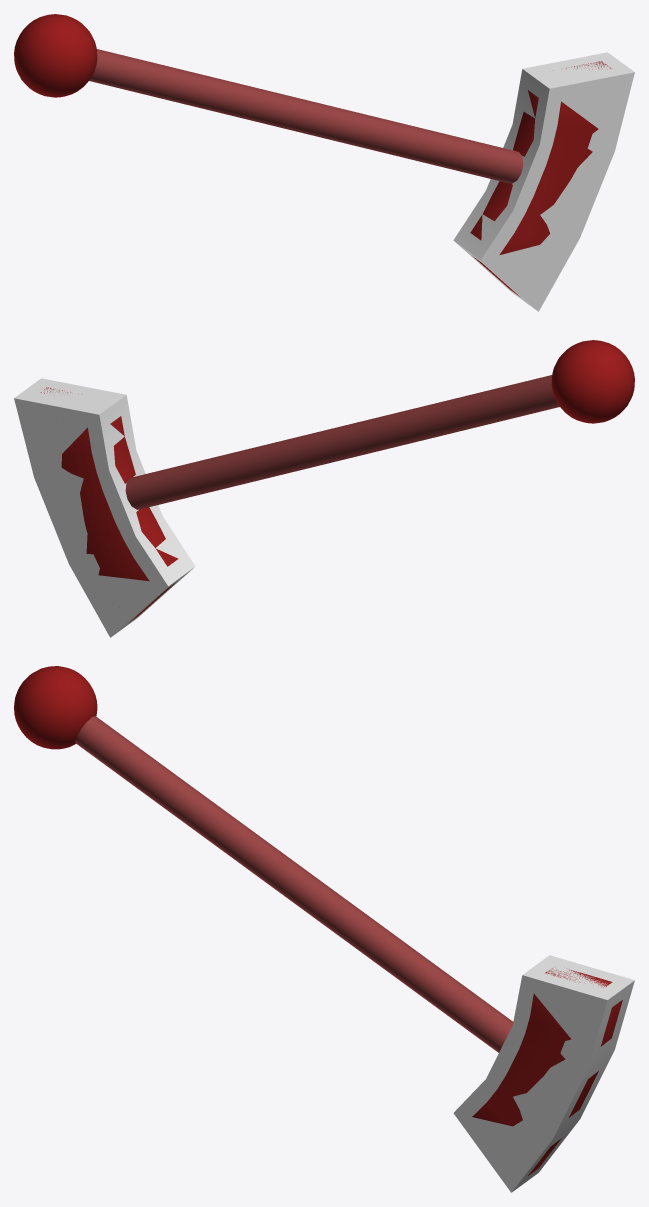
The model's file is Swinging Obstacle.fbx.
3 renders of one model, top to bottom at view 1: azimuth 30°, elevation 25°; view 2: azimuth 150°, elevation 25°; view 3: azimuth 330°, elevation 25°, orthographic.
Visible parts, largest first — view 1: SwingObstacle, SwingColider; view 2: SwingObstacle, SwingColider; view 3: SwingObstacle, SwingColider.
Boxes of the visible parts, left/top/right/bottom form: SwingObstacle: left=14, top=14, right=610, bottom=296; SwingColider: left=453, top=52, right=634, bottom=311; SwingObstacle: left=40, top=340, right=634, bottom=622; SwingColider: left=14, top=378, right=195, bottom=637; SwingObstacle: left=14, top=666, right=622, bottom=1175; SwingColider: left=453, top=955, right=634, bottom=1192.
Bounding box in the file's own units: 216 × 26.02 × 137.
